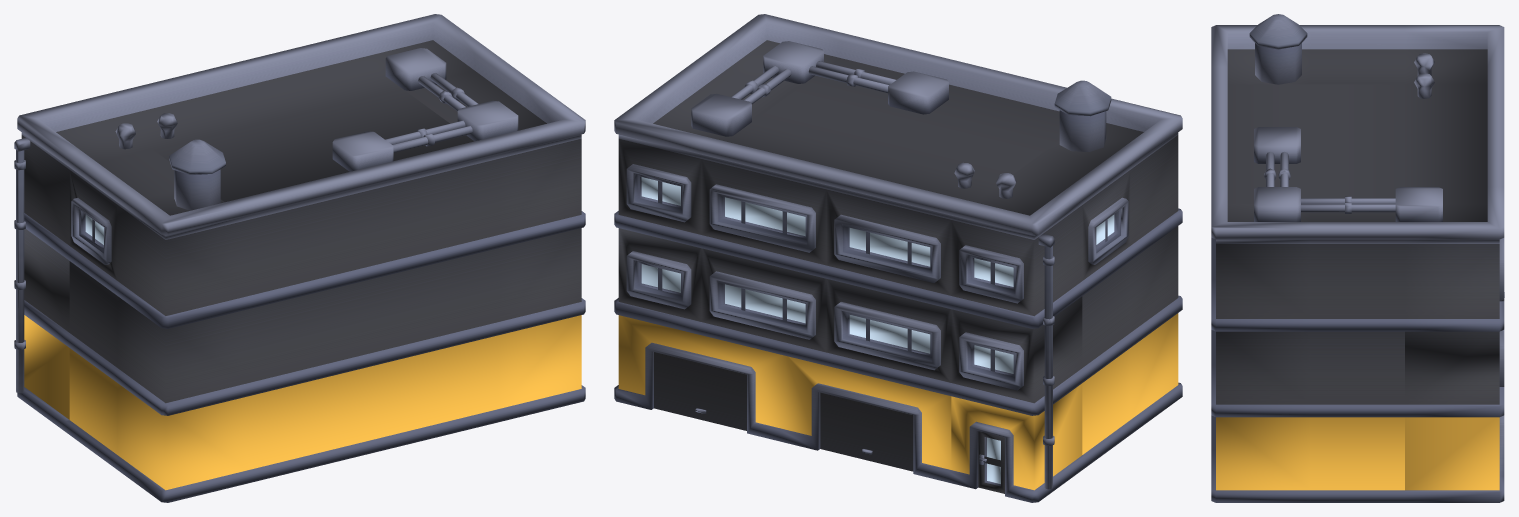
File: the_og_shop.glb
The picture shows the model from 3 angles, left to right: view 1: azimuth 30°, elevation 25°; view 2: azimuth 150°, elevation 25°; view 3: azimuth 270°, elevation 25°; orthographic projection.
Visible parts, largest first — view 1: shop_og; view 2: shop_og; view 3: shop_og.
Boxes of the visible parts, bbox=[...] form: shop_og: bbox=[14, 14, 585, 502]; shop_og: bbox=[614, 14, 1182, 502]; shop_og: bbox=[1211, 14, 1504, 502].
Size of the model in its own units: 2.72 by 1.92 by 1.62.
Materials: 1 (1 with a texture image).
